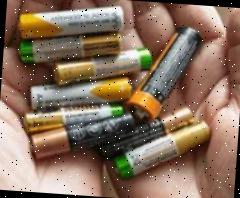electronic: (115, 13, 205, 132)
